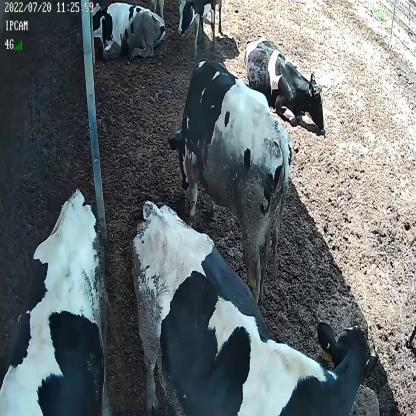cow: (130, 199, 380, 416), (167, 54, 292, 311), (244, 33, 326, 132), (90, 1, 168, 64)
